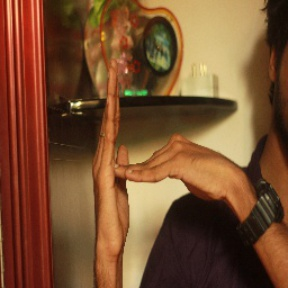Z: (85, 61, 235, 252)
